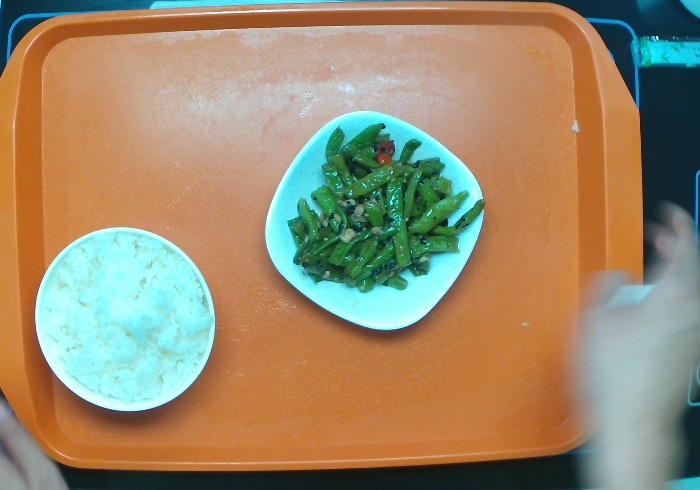ZNLD-Fan_Wan: (34, 224, 219, 412)
ZNLD-Si_Fang_Wan: (262, 108, 486, 332)
